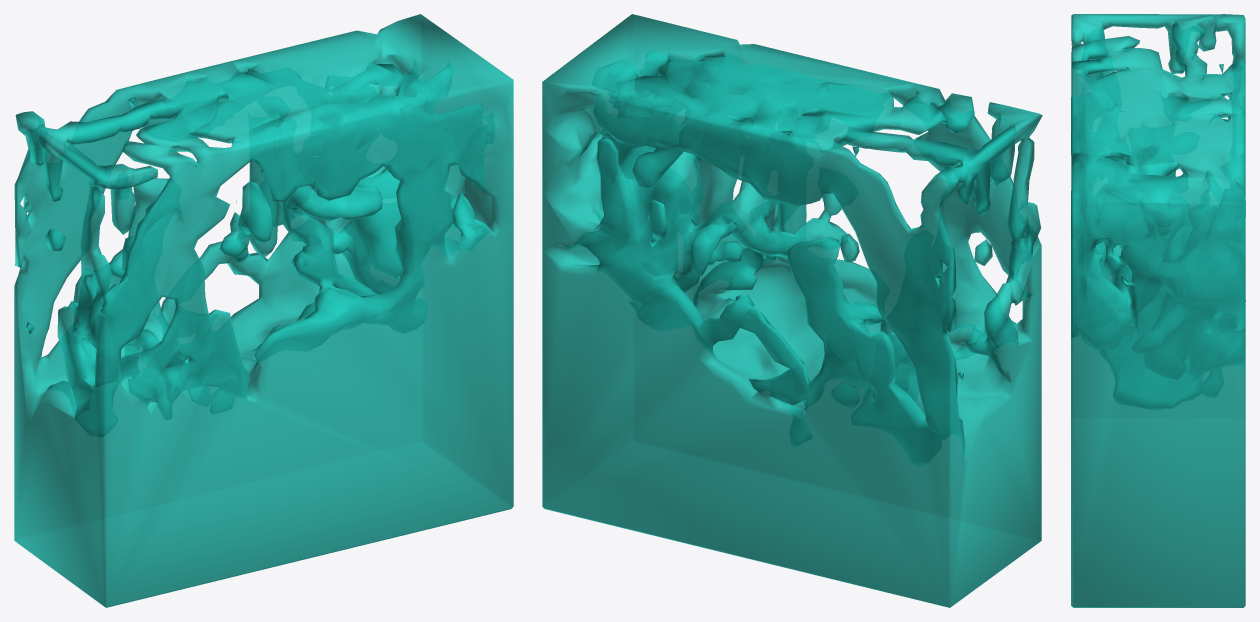
3 views of the same model, side by side, from view 1: azimuth 30°, elevation 25°; view 2: azimuth 150°, elevation 25°; view 3: azimuth 270°, elevation 25° (orthographic). The views are drawn at different scales.
Visible parts, largest first — view 1: Liquid_Domain; view 2: Liquid_Domain; view 3: Liquid_Domain.
Part boxes in pixels (left/top/right/bottom): Liquid_Domain: left=14, top=14, right=513, bottom=607; Liquid_Domain: left=542, top=14, right=1042, bottom=607; Liquid_Domain: left=1071, top=14, right=1245, bottom=607.
Size of the model in its own units: 885 by 884 by 345.
